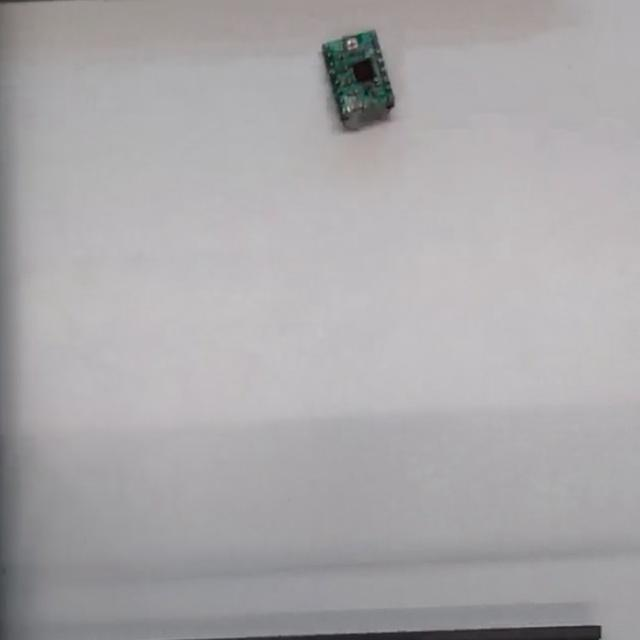Chip: (322, 31, 393, 129)
